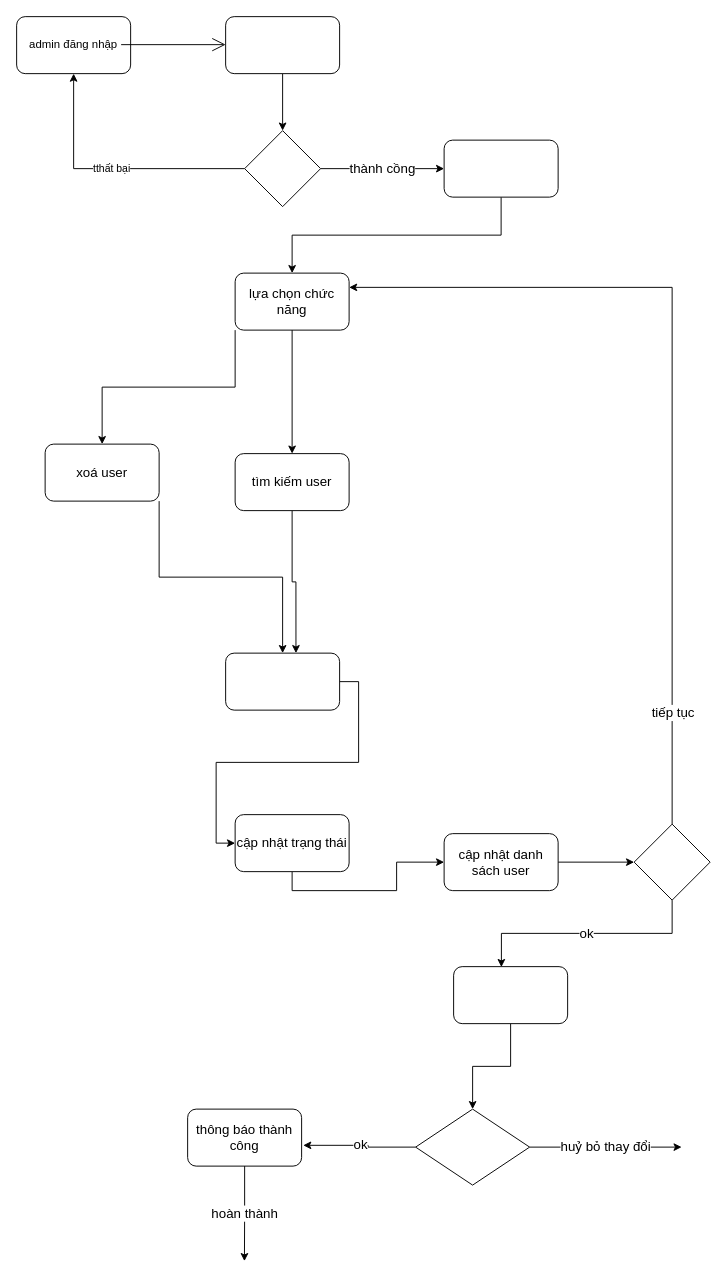
This 727x1285 diagram has some shape labels left out. The box of each missing label's shape, as (x1, y1, x2, y2) in pixels:
hiển thị danh sách user: (443, 139, 558, 197)
kiểm tra Use and Passwordd: (225, 16, 340, 74)
nhập thông tin user: (225, 652, 340, 710)
xác nhận: (453, 966, 568, 1024)
